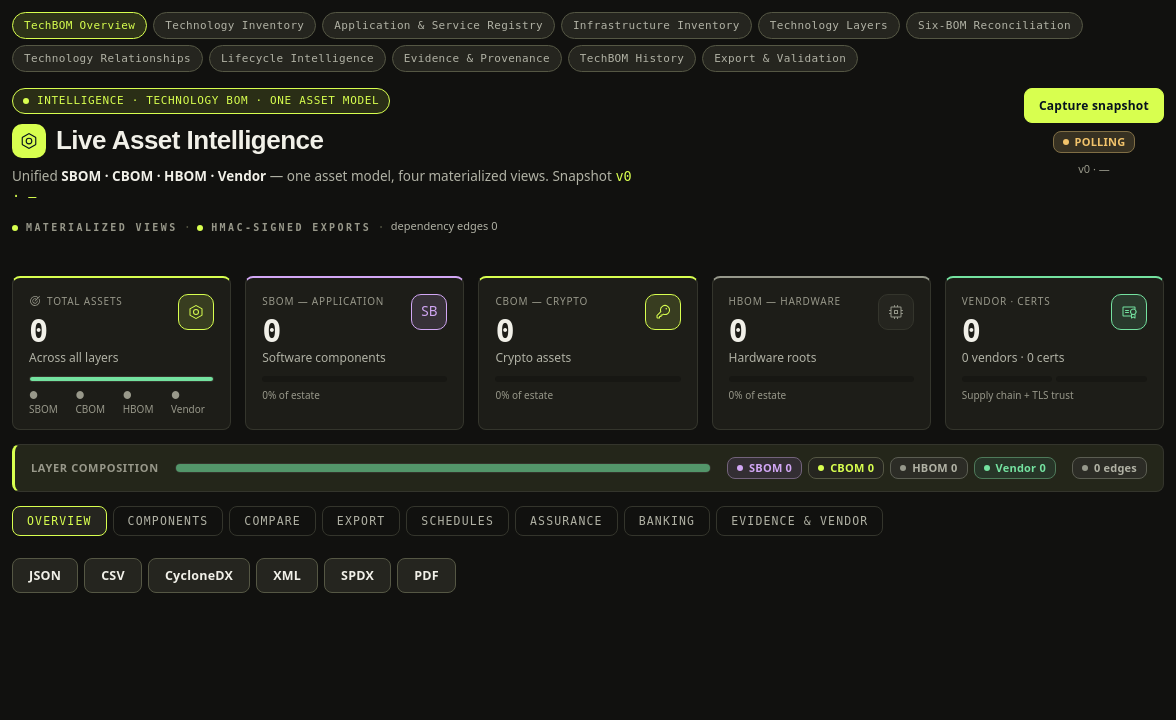
Scenario: TechBOM workspace › draws the not-read state instead of an empty inventory when the read fails
Click the tab "Technology Relationships": (107, 58) 12,45 -> 203,72
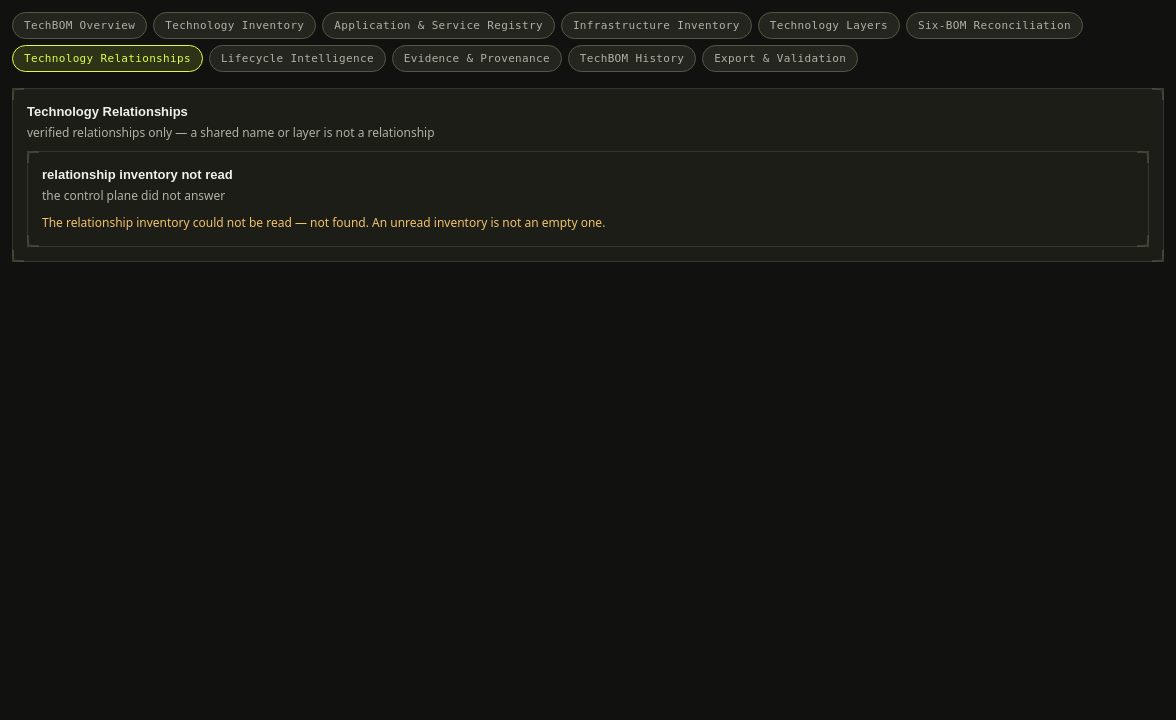
Check: the heading "relationship inventory not read" is shown, box 42,167 -> 233,182
